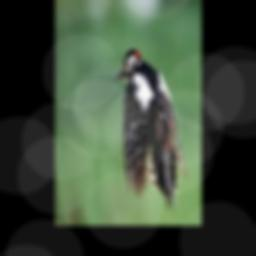Woodpecker: (113, 49, 186, 213)
